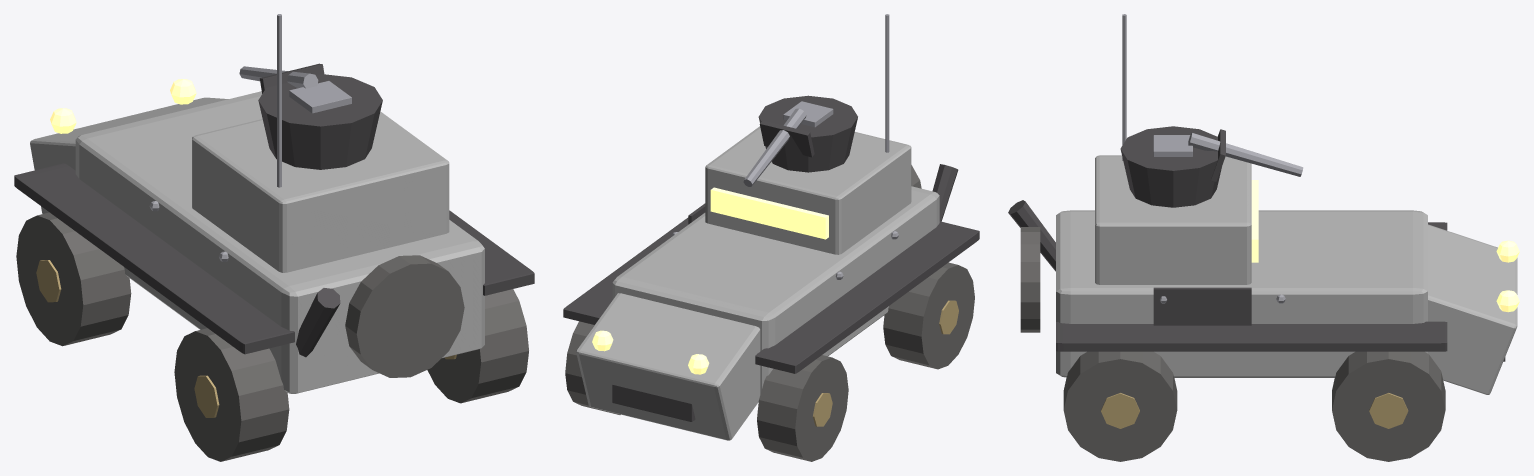
Rendered from unit_scout.glb.
3 renders of one model, left to right at view 1: azimuth 30°, elevation 25°; view 2: azimuth 150°, elevation 25°; view 3: azimuth 270°, elevation 25°, orthographic. The views are drawn at different scales.
Visible parts, largest first — view 1: SC_Body, SC_Cabin, SC_Fender, SC_Spare, SC_Wheel, SC_Wheel.001, SC_Cupola, SC_Wheel.002, SC_Nose, SC_Fender.001, SC_Exhaust, SC_CupolaHatch (+7 smaller); view 2: SC_Body, SC_Nose, SC_Cabin, SC_Fender, SC_Wheel.001, SC_Wheel, SC_Cupola, SC_Visor, SC_Fender.001, SC_Grille, SC_Wheel.003, SC_MG (+6 smaller); view 3: SC_Body, SC_Cabin, SC_Nose, SC_Fender.001, SC_Wheel.003, SC_Wheel.002, SC_Cupola, SC_DoorLine, SC_Spare, SC_MG, SC_Exhaust, SC_Hub.003 (+4 smaller).
Part boxes in pixels (x1,y1,x2,y2): SC_Body: (75, 91, 484, 393); SC_Cabin: (192, 111, 449, 272); SC_Fender: (14, 163, 294, 354); SC_Spare: (345, 255, 464, 377); SC_Wheel: (174, 328, 289, 461); SC_Wheel.001: (16, 212, 131, 346); SC_Cupola: (258, 74, 382, 169); SC_Wheel.002: (427, 289, 528, 403); SC_Nose: (30, 97, 228, 213); SC_Fender.001: (449, 210, 534, 295); SC_Exhaust: (296, 288, 340, 357); SC_CupolaHatch: (289, 81, 351, 113); SC_Body: (612, 186, 939, 393); SC_Nose: (576, 293, 760, 440); SC_Cabin: (705, 126, 911, 254); SC_Fender: (755, 221, 979, 373); SC_Wheel.001: (757, 355, 848, 461); SC_Wheel: (883, 262, 974, 369); SC_Cupola: (758, 95, 857, 172); SC_Visor: (710, 187, 828, 239); SC_Fender.001: (563, 217, 688, 324); SC_Grille: (612, 385, 695, 421); SC_Wheel.003: (565, 321, 620, 414); SC_MG: (743, 108, 806, 186); SC_Body: (1056, 210, 1427, 377); SC_Cabin: (1095, 155, 1251, 284); SC_Nose: (1428, 224, 1517, 394); SC_Fender.001: (1056, 321, 1447, 351); SC_Wheel.003: (1332, 351, 1445, 461); SC_Wheel.002: (1063, 351, 1177, 461); SC_Cupola: (1120, 126, 1221, 207); SC_DoorLine: (1153, 287, 1251, 325); SC_Spare: (1020, 227, 1040, 332); SC_MG: (1188, 132, 1303, 176); SC_Exhaust: (1008, 200, 1055, 271); SC_Hub.003: (1369, 393, 1408, 428).
Bounding box in the file's own units: 1.46 × 2.02 × 2.61.
